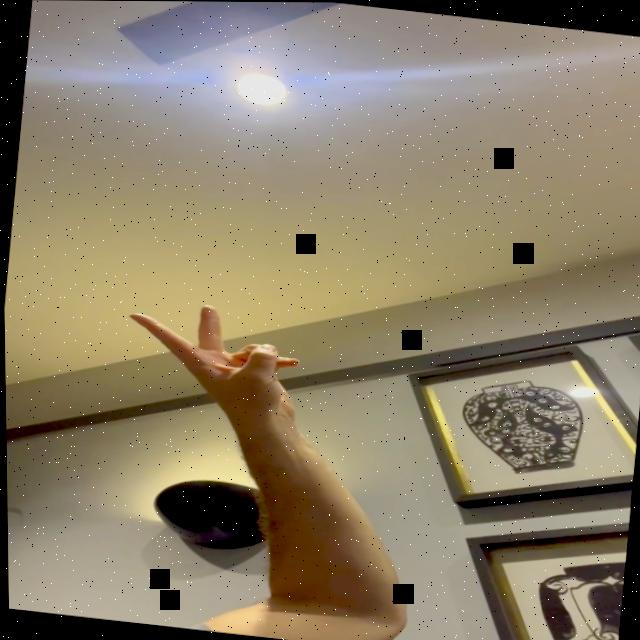Scissors: (112, 295, 305, 424)
